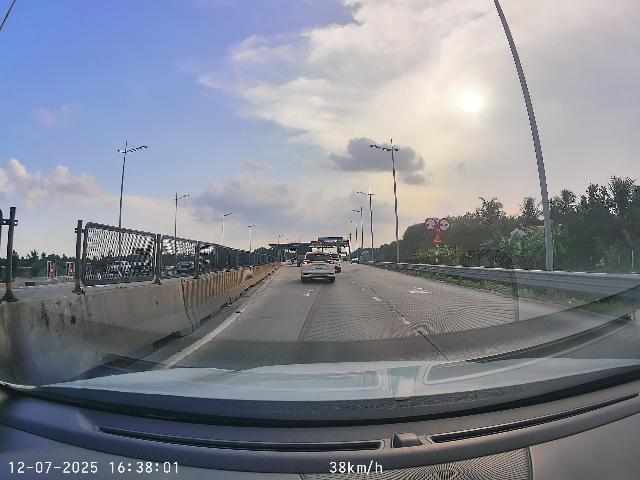125-cam-vuot: (438, 218, 451, 232)
